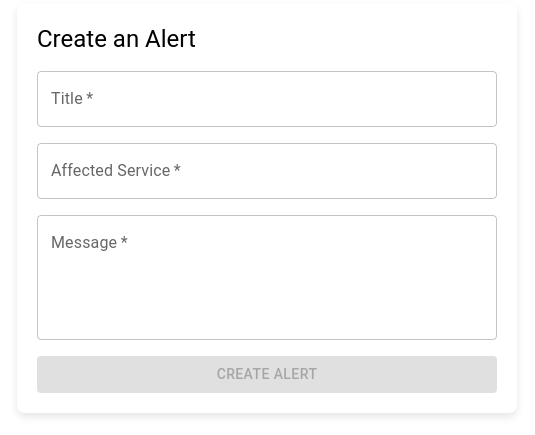
Scenario: AlertForm Component Tests › displays loading indicator when submitting
Step 1. Type "Test Title" into the field with test id "alert-title-input" → (267, 99), box [37, 71, 497, 127]
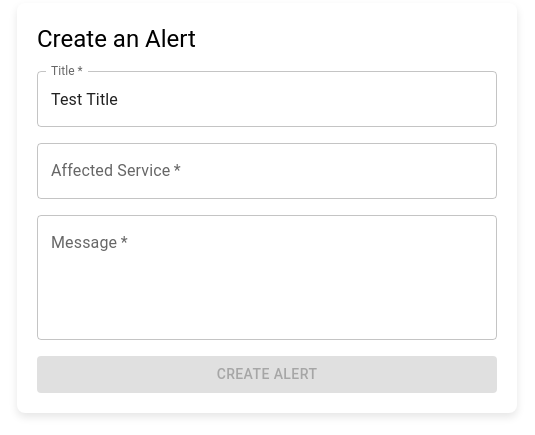
Step 2. Type "Test Service" into the field with test id "alert-affected-service-input" → (267, 171), box [37, 143, 497, 199]
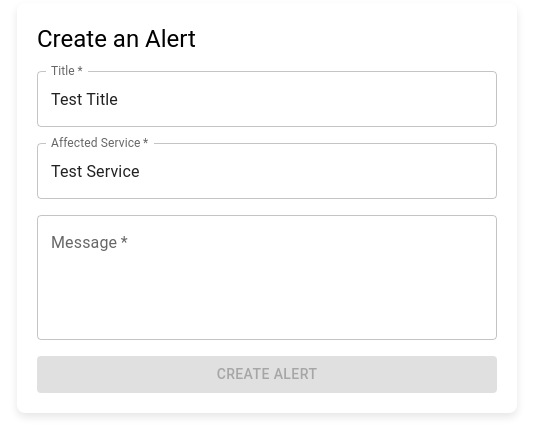
Step 3. Type "Test Message" into the text box with test id "alert-message-input" → (267, 278), box [51, 232, 483, 324]
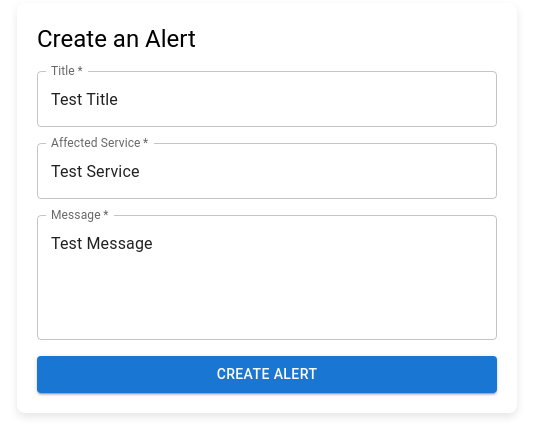
Step 4. Click the button with test id "alert-submit-button" → (267, 374), box [37, 356, 497, 392]
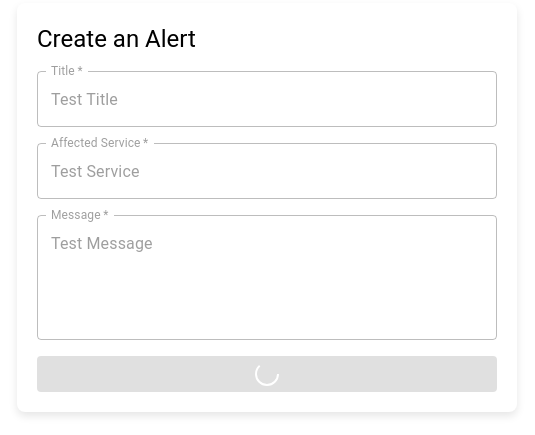
Result: the progress indicator is shown at [255, 362, 279, 386]
